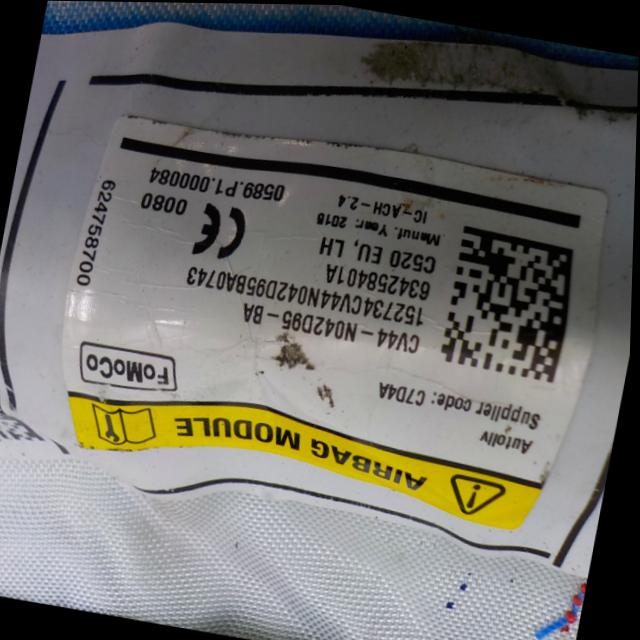datamatrix: (440, 223, 583, 382)
